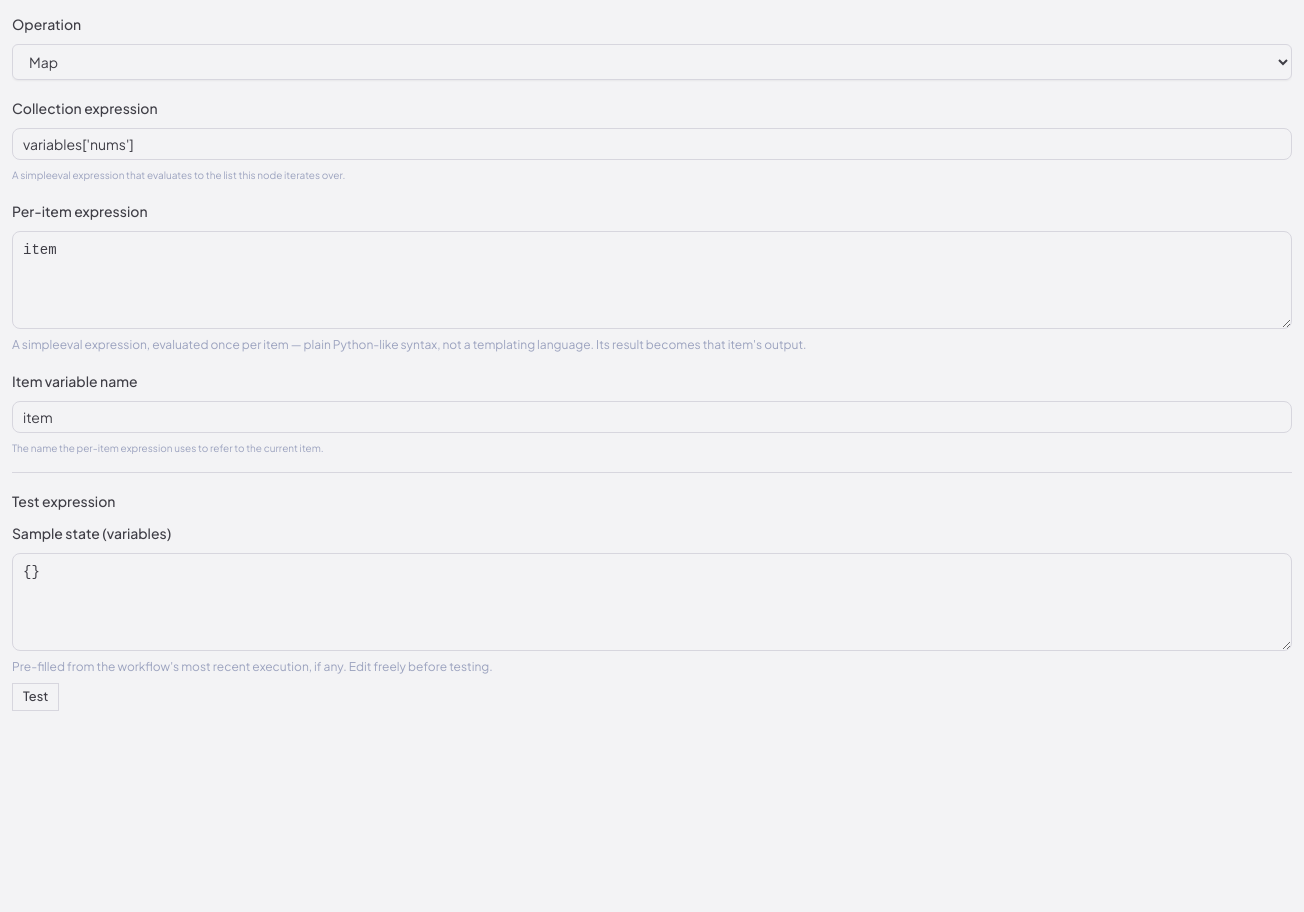
DataTransformPanel › shows the truncation banner when the backend reports truncated
Click the button "Test" at point(36, 697), box [12,683,59,711]
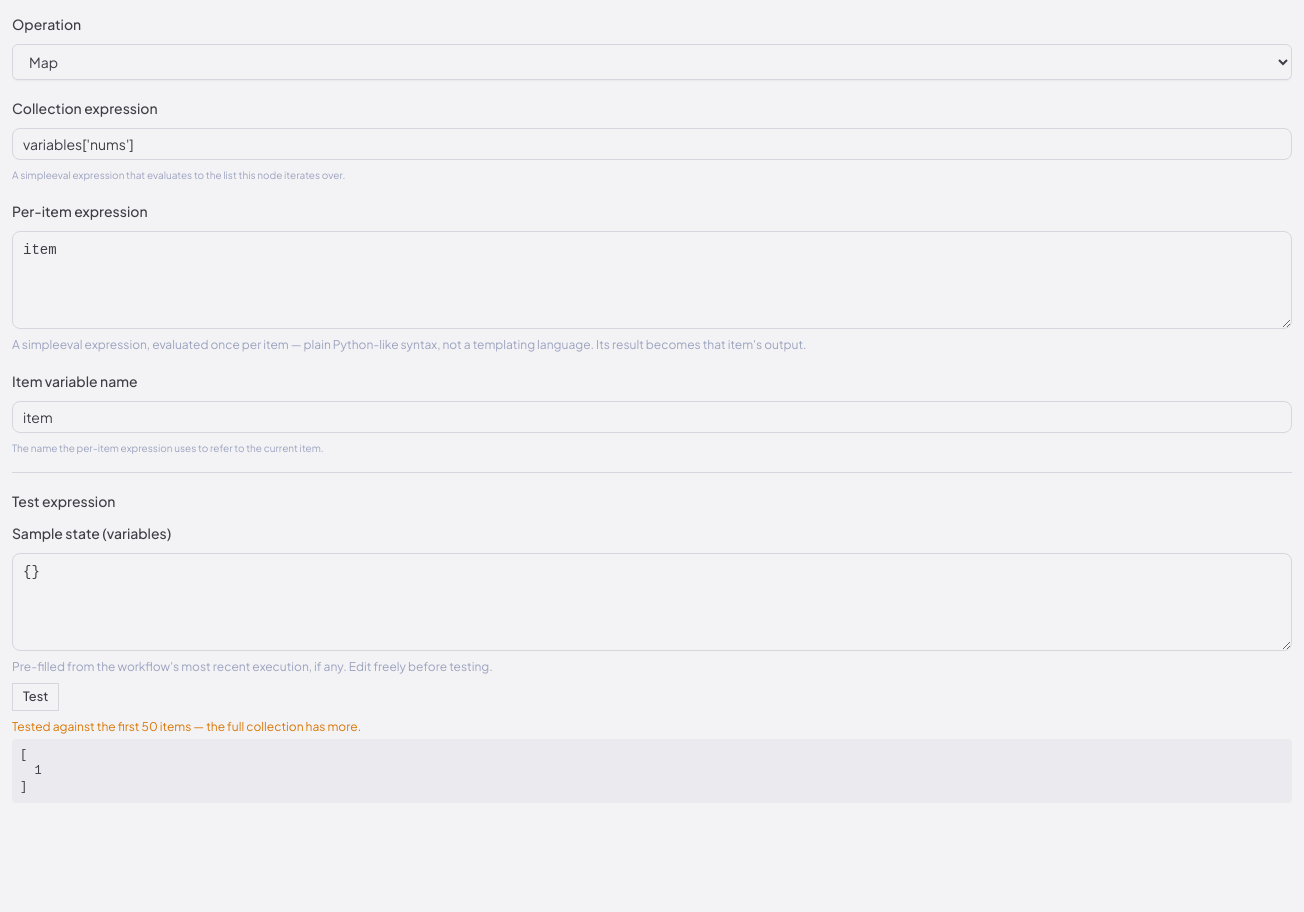
Expected: the text "first 50" is shown, [12,719,361,734]
